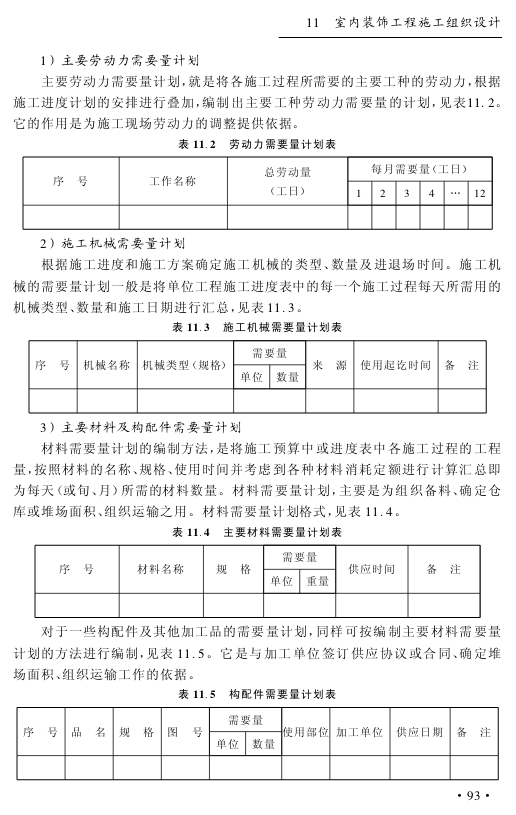table: (15, 706, 499, 781), (22, 156, 492, 230), (28, 340, 487, 414), (34, 544, 480, 618)
